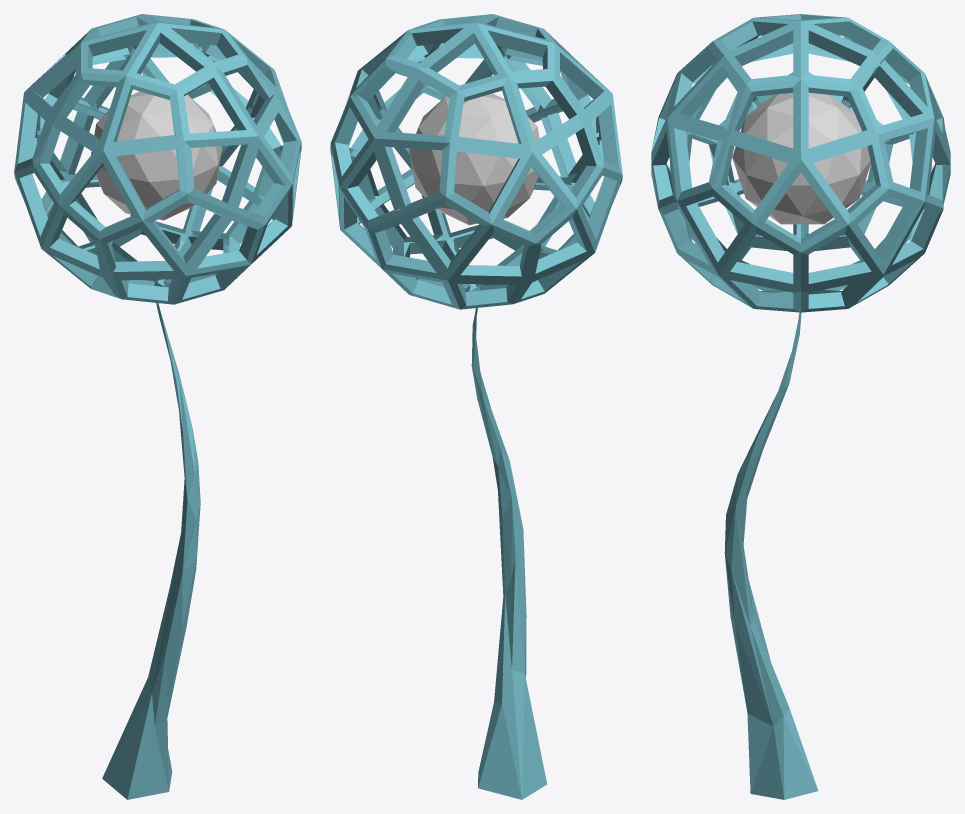
The model's file is Dandelion_small.fbx.
3 renders of one model, left to right at view 1: azimuth 30°, elevation 25°; view 2: azimuth 150°, elevation 25°; view 3: azimuth 270°, elevation 25°, orthographic. The views are drawn at different scales.
Visible parts, largest first — view 1: Icosphere.029, BezierCurve.010, Icosphere; view 2: Icosphere.029, BezierCurve.010, Icosphere; view 3: Icosphere.029, BezierCurve.010, Icosphere.
Part boxes in pixels (box(x1,y1,x2,y2)): Icosphere.029: box(14, 14, 301, 304); BezierCurve.010: box(102, 279, 200, 799); Icosphere: box(91, 91, 222, 220); Icosphere.029: box(330, 14, 622, 309); BezierCurve.010: box(471, 284, 547, 799); Icosphere: box(409, 93, 539, 225); Icosphere.029: box(651, 14, 950, 312); BezierCurve.010: box(724, 312, 818, 799); Icosphere: box(732, 92, 870, 224).
Size of the model in its own units: 156 by 449 by 156.
